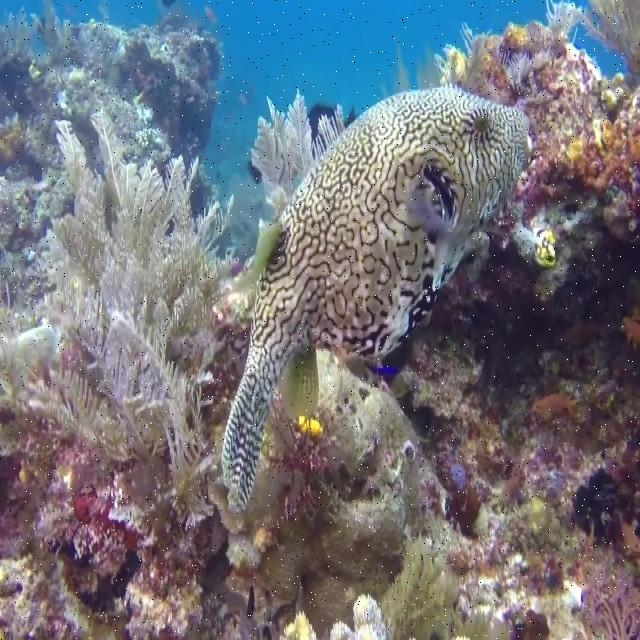fish: (221, 82, 531, 511)
reefs: (0, 0, 639, 639), (251, 91, 346, 234)
